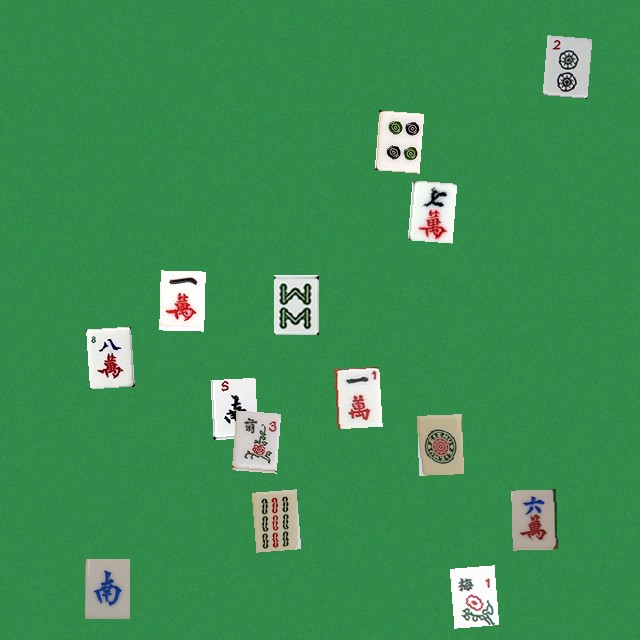tile: (273, 274, 318, 334), (449, 565, 494, 625), (86, 326, 131, 386), (542, 35, 587, 95), (334, 366, 379, 426), (407, 180, 452, 240), (374, 110, 419, 170), (251, 489, 296, 549), (416, 414, 461, 474), (84, 558, 129, 618), (511, 489, 556, 549), (210, 377, 255, 437), (159, 270, 204, 330), (231, 410, 276, 470)
